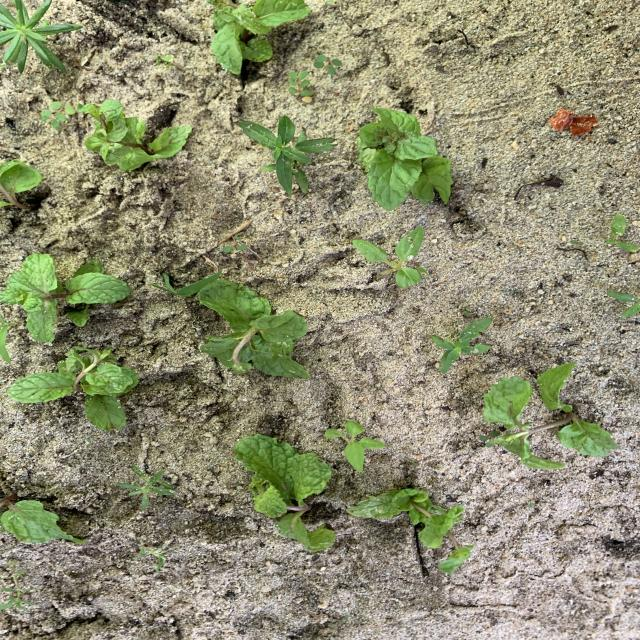crop: (483, 364, 616, 468), (2, 254, 130, 342), (236, 436, 333, 550), (346, 488, 473, 573), (10, 347, 138, 430), (200, 281, 309, 377), (357, 109, 451, 209), (79, 101, 190, 169), (209, 1, 308, 73), (1, 497, 86, 543), (1, 161, 41, 207)
weed: (240, 117, 335, 194), (1, 1, 80, 71), (353, 228, 426, 287), (431, 318, 491, 371), (325, 420, 385, 472), (116, 468, 175, 507), (152, 271, 222, 297), (137, 539, 179, 571), (605, 214, 639, 251), (1, 582, 36, 609), (41, 101, 76, 127), (607, 290, 639, 317), (288, 71, 311, 96), (1, 561, 27, 582), (314, 55, 342, 74), (605, 239, 639, 251), (220, 239, 247, 254), (156, 55, 171, 63)
